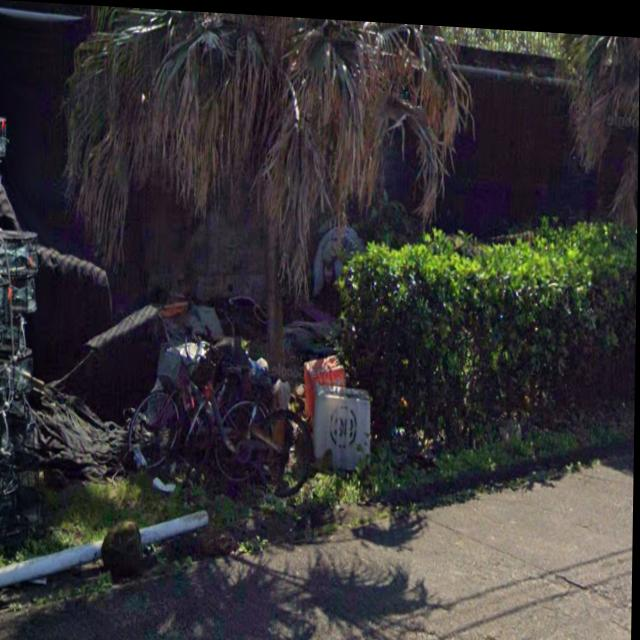pollute: (0, 127, 162, 503), (303, 347, 379, 469)
